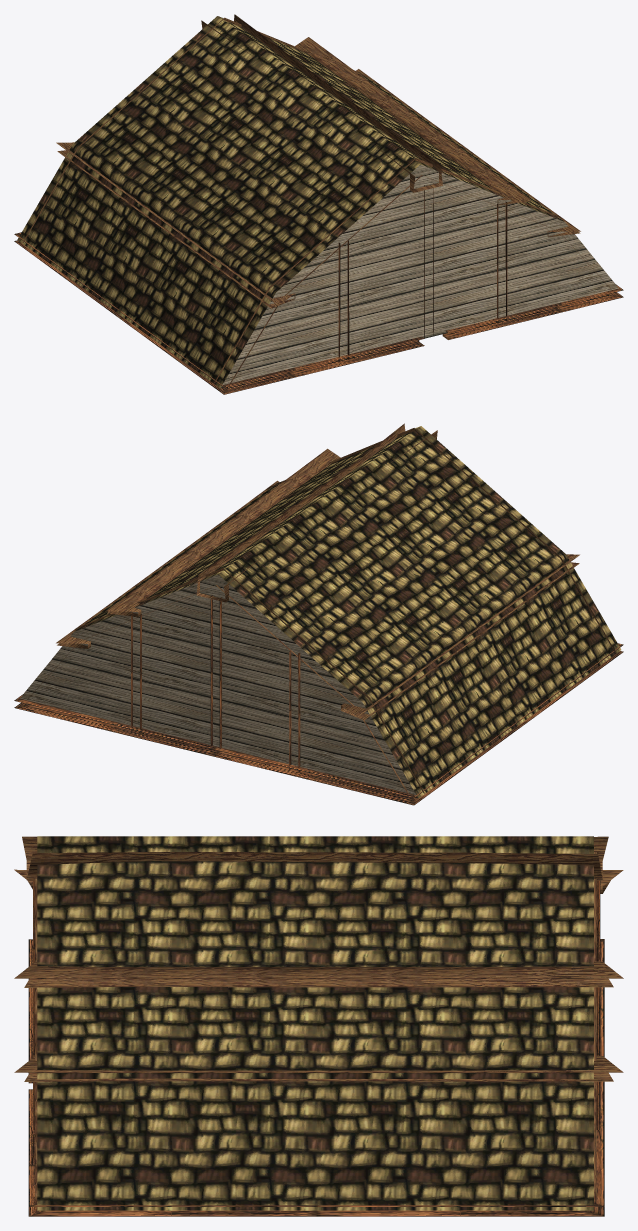
File: LAKETOWN_WAREHOUSE3_PS_WH3_ROOF1_94948__GX.fbx
The picture shows the model from 3 angles, top to bottom: view 1: azimuth 30°, elevation 25°; view 2: azimuth 150°, elevation 25°; view 3: azimuth 270°, elevation 25°; orthographic projection. The views are drawn at different scales.
Visible parts, largest first — view 1: LAKETOWN_WAREHOUSE3_PS_WH3_ROOF1_94948__GX; view 2: LAKETOWN_WAREHOUSE3_PS_WH3_ROOF1_94948__GX; view 3: LAKETOWN_WAREHOUSE3_PS_WH3_ROOF1_94948__GX.
Boxes of the visible parts, x1,y1,x2,y2 form: LAKETOWN_WAREHOUSE3_PS_WH3_ROOF1_94948__GX: [14, 14, 623, 394]; LAKETOWN_WAREHOUSE3_PS_WH3_ROOF1_94948__GX: [14, 423, 623, 805]; LAKETOWN_WAREHOUSE3_PS_WH3_ROOF1_94948__GX: [14, 836, 623, 1216].
Bounding box in the file's own units: 203738 × 87740 × 194723.
4 materials, 4 textured.
